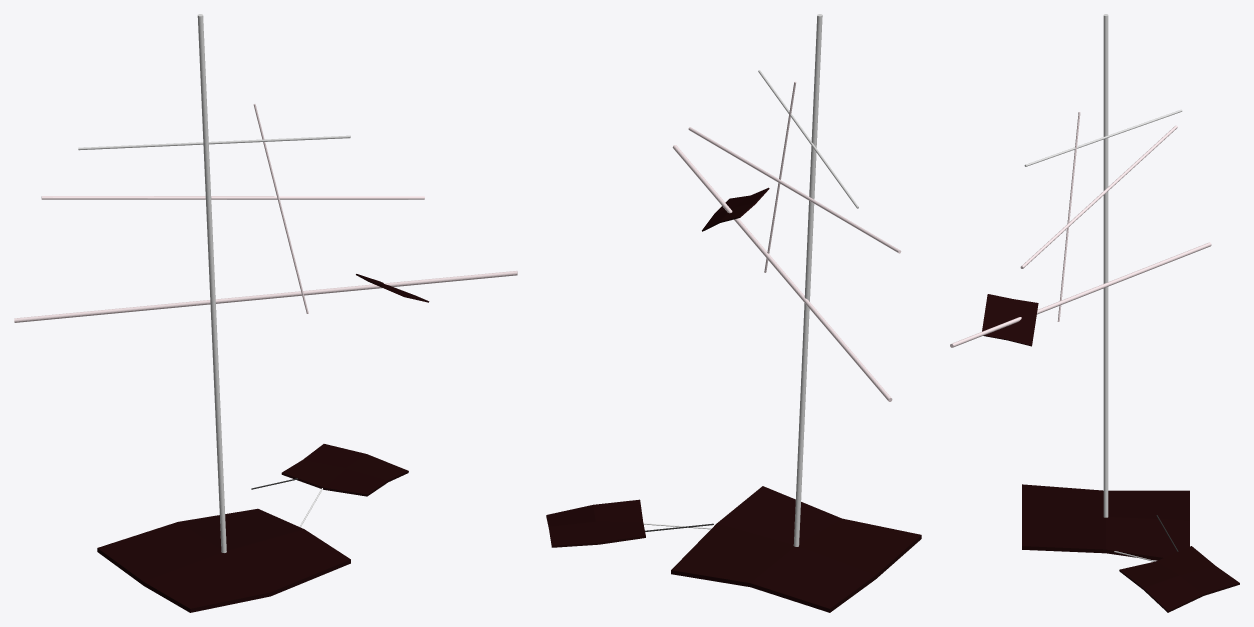
Rendered from müll4.fbx.
3 renders of one model, left to right at view 1: azimuth 30°, elevation 25°; view 2: azimuth 150°, elevation 25°; view 3: azimuth 270°, elevation 25°, orthographic. The views are drawn at different scales.
Visible parts, largest first — view 1: Cube, Cube.002, Cylinder, Cylinder.003, Cylinder.002, Cylinder.001; view 2: Cube, Cube.002, Cylinder, Cylinder.003, Cylinder.002, Cube.001, Cylinder.004, Cylinder.001; view 3: Cube, Cube.002, Cylinder, Cube.001, Cylinder.003, Cylinder.002, Cylinder.004, Cylinder.001.
Boxes of the visible parts, x1=… form: Cube: x1=97, y1=508, x2=350, y2=612; Cube.002: x1=281, y1=444, x2=408, y2=496; Cylinder: x1=197, y1=14, x2=226, y2=552; Cylinder.003: x1=14, y1=271, x2=517, y2=322; Cylinder.002: x1=41, y1=196, x2=424, y2=199; Cylinder.001: x1=78, y1=135, x2=350, y2=150; Cube: x1=671, y1=486, x2=921, y2=612; Cube.002: x1=546, y1=499, x2=645, y2=547; Cylinder: x1=793, y1=14, x2=822, y2=546; Cylinder.003: x1=672, y1=145, x2=892, y2=401; Cylinder.002: x1=688, y1=127, x2=901, y2=253; Cube.001: x1=702, y1=187, x2=769, y2=231; Cylinder.004: x1=764, y1=81, x2=796, y2=272; Cylinder.001: x1=758, y1=70, x2=858, y2=208; Cube: x1=1022, y1=484, x2=1189, y2=560; Cube.002: x1=1119, y1=546, x2=1239, y2=612; Cylinder: x1=1103, y1=14, x2=1108, y2=517; Cube.001: x1=982, y1=294, x2=1038, y2=346; Cylinder.003: x1=950, y1=242, x2=1211, y2=347; Cylinder.002: x1=1020, y1=125, x2=1177, y2=268; Cylinder.004: x1=1057, y1=112, x2=1080, y2=321; Cylinder.001: x1=1024, y1=109, x2=1182, y2=166.
Bounding box in the file's own units: 463 × 662 × 345.
